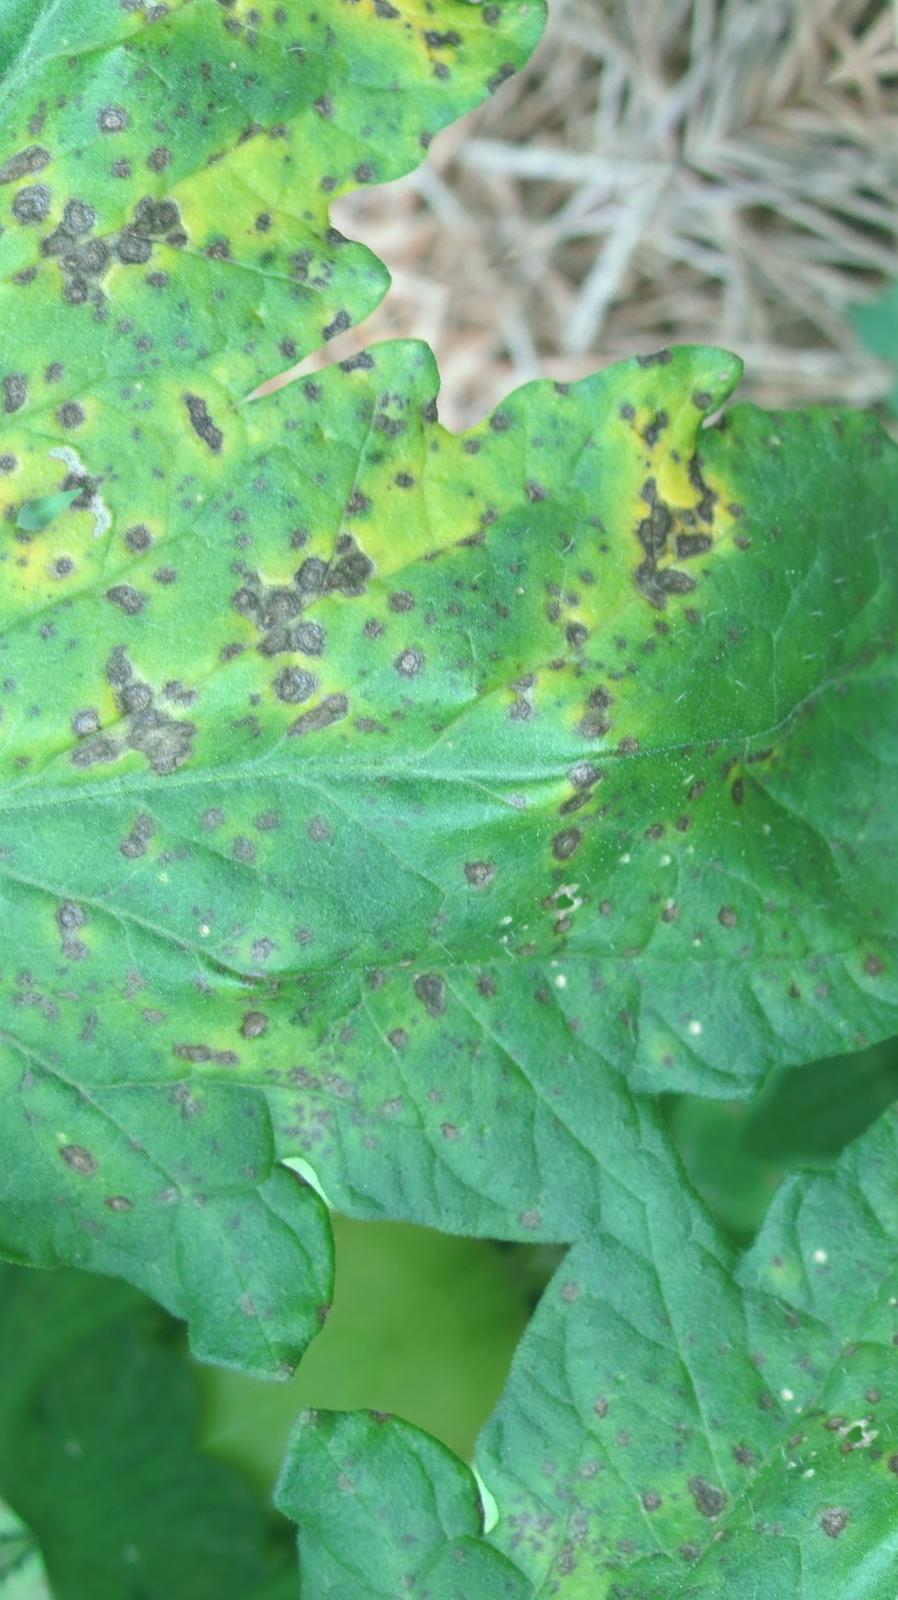Tomato Septoria leaf spot: (0, 81, 898, 1538)
